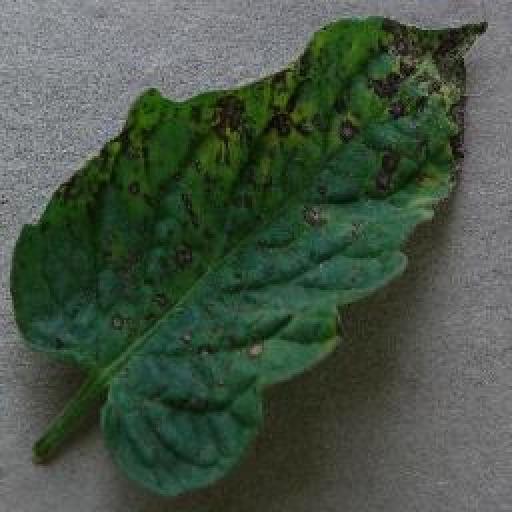Early Blight: (16, 14, 483, 502)
